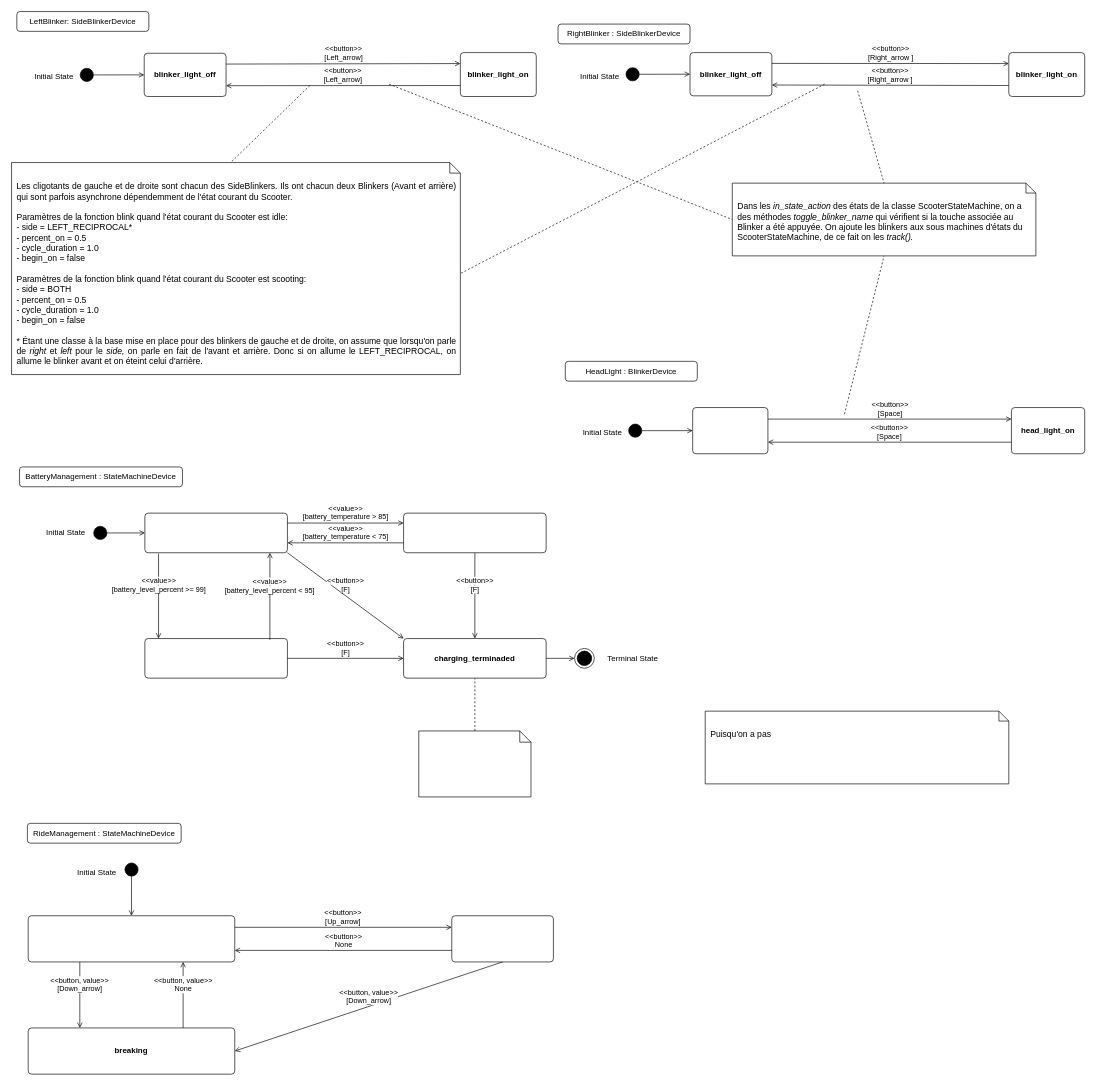
Image size: 1096x1086. Some labels were removed from this diagram. The shapes that lost their labels are listed below. From the top down, each one's centre as x and y in pixels, then its label:
At point (730, 430): "head_light_off".
At point (215, 532): "charging_on".
At point (474, 532): "cooling".
At point (215, 658): "charging_complete".
At point (474, 763): "Dans le entering_action de l'état initial, on réinitialise la machine d'état.".
At point (131, 938): "free_wheel".
At point (502, 938): "accelerating".
